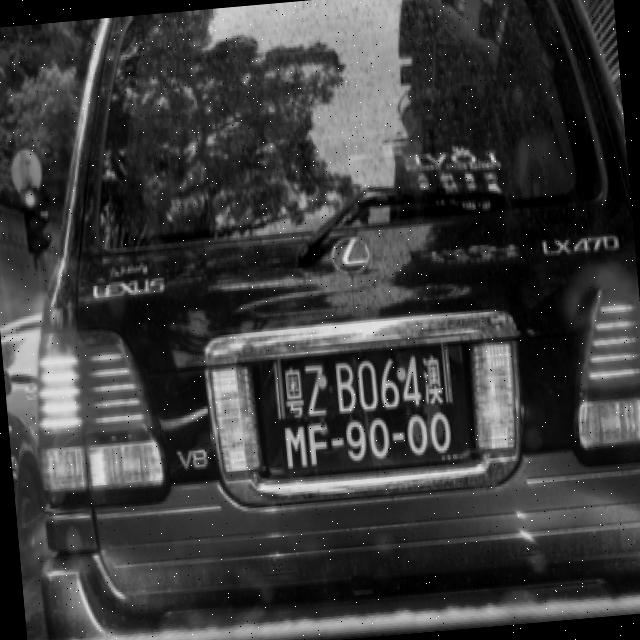Autre: (258, 335, 487, 483)
